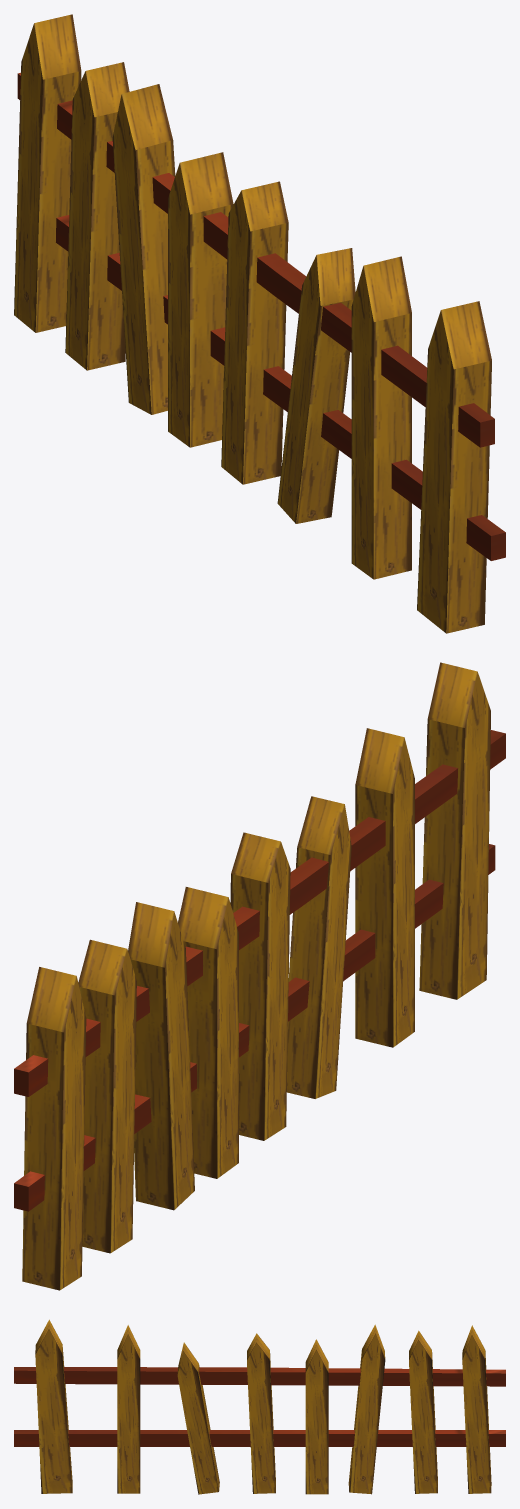
The model's file is fence1.FBX.
The picture shows the model from 3 angles, top to bottom: view 1: azimuth 30°, elevation 25°; view 2: azimuth 150°, elevation 25°; view 3: azimuth 270°, elevation 25°; orthographic projection. The views are drawn at different scales.
Parts seen in each view (by area): view 1: Box007; view 2: Box007; view 3: Box007.
Boxes of the visible parts, bbox=[...] form: Box007: bbox=[14, 14, 505, 633]; Box007: bbox=[14, 662, 505, 1290]; Box007: bbox=[14, 1319, 505, 1494].
Size of the model in its own units: 8.38 by 56.04 by 150.
